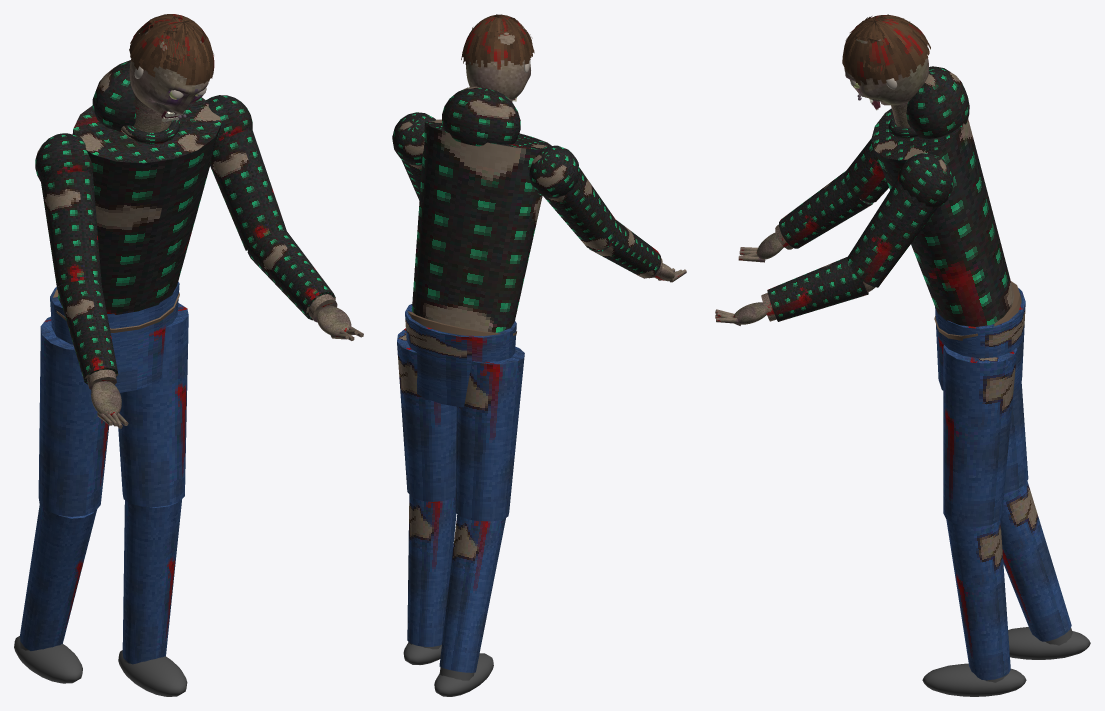
The model's file is Zombie_055.glb.
3 views of the same model, side by side, from view 1: azimuth 30°, elevation 25°; view 2: azimuth 150°, elevation 25°; view 3: azimuth 270°, elevation 25° (orthographic). The views are drawn at different scales.
Parts seen in each view (by area): view 1: Zombie_055, object 4, object 12, object 45, object 18, object 5, object 13; view 2: Zombie_055, object 45, object 18, object 4; view 3: Zombie_055, object 45, object 12, object 4, object 18.
Part boxes in pixels (x1,y1,x2,y2): Zombie_055: (14, 60, 286, 696); object 4: (57, 279, 118, 384); object 12: (247, 229, 335, 320); object 45: (129, 14, 214, 82); object 18: (129, 30, 208, 115); object 5: (91, 381, 121, 415); object 13: (316, 306, 351, 335); Zombie_055: (392, 86, 618, 696); object 45: (461, 14, 534, 66); object 18: (466, 32, 530, 100); object 4: (589, 220, 661, 278); Zombie_055: (844, 66, 1090, 696); object 45: (842, 15, 930, 83); object 12: (767, 257, 868, 321); object 4: (779, 171, 873, 248); object 18: (844, 39, 928, 105).
Size of the model in its own units: 0.7178 by 1.99 by 1.02.
16 materials, 6 textured.
